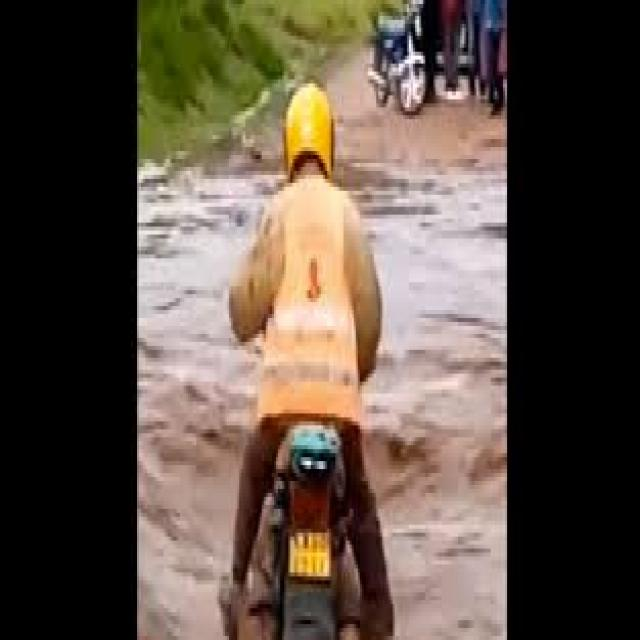bodaboda: (202, 249, 409, 640)
